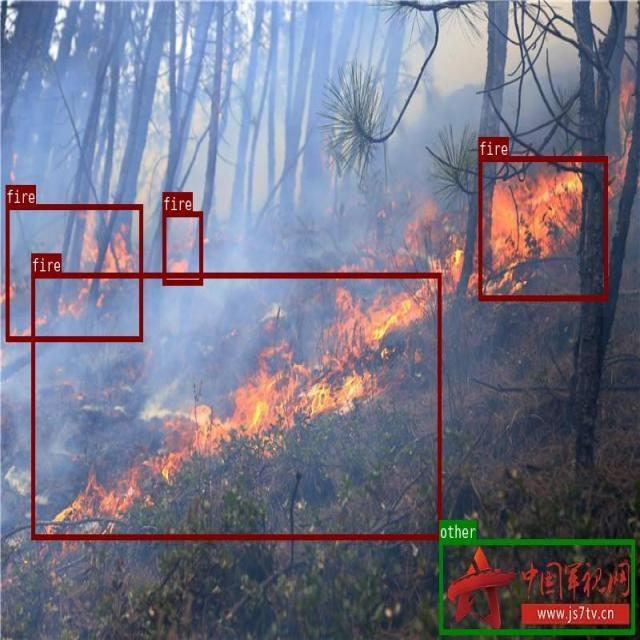fire: (32, 272, 441, 539), (5, 204, 142, 340), (478, 155, 606, 300), (162, 211, 202, 284)
